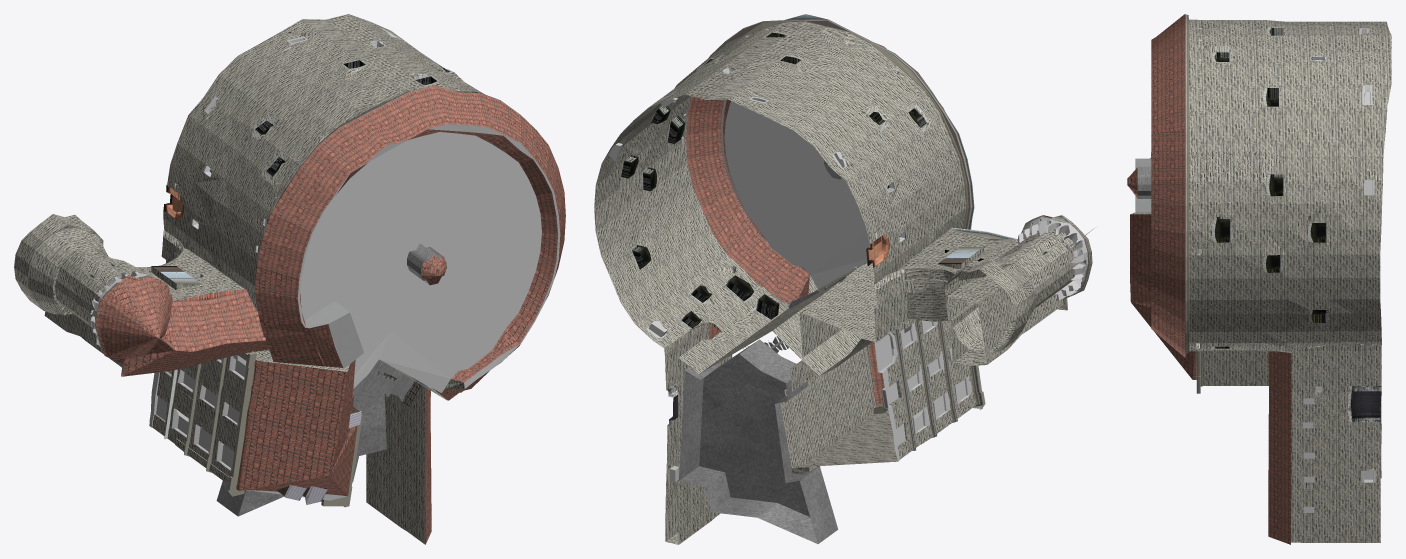
The model's file is Pikk70_1_1-origo.obj.
The picture shows the model from 3 angles, left to right: view 1: azimuth 30°, elevation 25°; view 2: azimuth 150°, elevation 25°; view 3: azimuth 270°, elevation 25°; orthographic projection. The views are drawn at different scales.
Visible parts, largest first — view 1: Pikk_70_1; view 2: Pikk_70_1; view 3: Pikk_70_1.
Part boxes in pixels (box(x1,y1,x2,y2)): Pikk_70_1: box(14, 14, 565, 544); Pikk_70_1: box(594, 14, 1094, 544); Pikk_70_1: box(1127, 14, 1391, 544).
Bounding box in the file's own units: 38 × 40 × 19.95.
